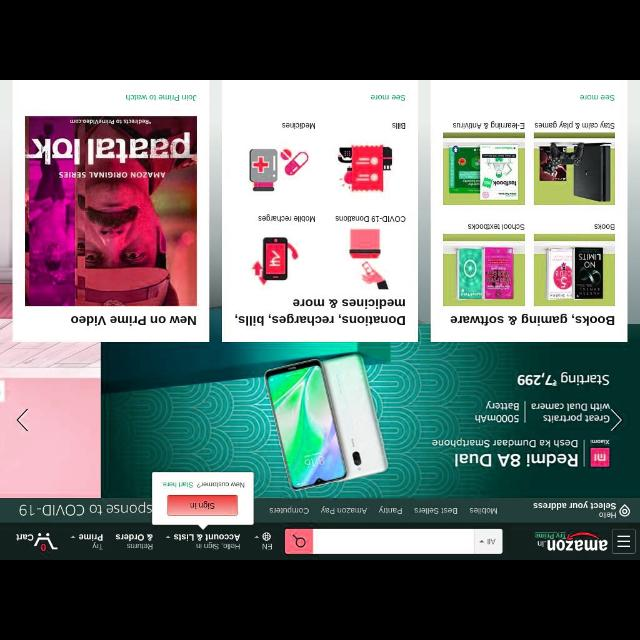backgroundimage: (1, 80, 639, 498)
button: (611, 528, 635, 554), (285, 530, 311, 552)
icon: (34, 532, 58, 552), (16, 408, 29, 432), (610, 408, 622, 432), (616, 534, 630, 548), (292, 534, 306, 548), (619, 503, 631, 517), (262, 533, 270, 541), (70, 534, 76, 540), (478, 540, 484, 544), (255, 534, 258, 540), (167, 535, 170, 539)
image: (26, 117, 196, 306), (443, 234, 525, 306), (534, 234, 614, 306), (534, 132, 614, 204), (444, 133, 524, 205), (336, 144, 392, 192), (248, 148, 308, 192), (348, 230, 388, 290), (252, 237, 298, 286), (536, 530, 606, 552), (590, 448, 610, 467)
input: (312, 530, 473, 552)
link: (536, 532, 566, 538)
multitab: (253, 499, 514, 523)
spinner: (165, 532, 239, 552), (473, 528, 502, 554), (69, 532, 103, 552)
text: (234, 298, 406, 326), (454, 452, 578, 468), (450, 313, 614, 325), (18, 502, 152, 516), (531, 402, 611, 423), (70, 314, 196, 326), (432, 438, 578, 448), (517, 372, 609, 386), (173, 532, 239, 550), (474, 401, 520, 423), (532, 500, 616, 510), (534, 120, 614, 130), (452, 120, 526, 130), (115, 533, 154, 551), (161, 482, 245, 488), (336, 215, 406, 222), (257, 214, 315, 222), (126, 94, 197, 100), (467, 223, 525, 230), (320, 506, 368, 514), (78, 534, 102, 550), (414, 506, 458, 514), (270, 506, 308, 514), (281, 122, 315, 130), (469, 507, 497, 515), (579, 94, 615, 100), (370, 94, 406, 100), (379, 506, 403, 514), (598, 511, 616, 519), (16, 533, 34, 541), (594, 223, 614, 230), (590, 439, 610, 445), (392, 122, 406, 130), (485, 537, 497, 545), (262, 543, 272, 551)
textbutton: (168, 495, 236, 515)
toolbar: (1, 524, 640, 560)
